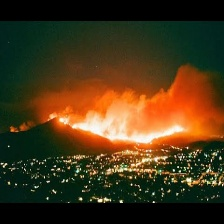fire: (57, 116, 192, 144)
smoke: (77, 65, 222, 123)
